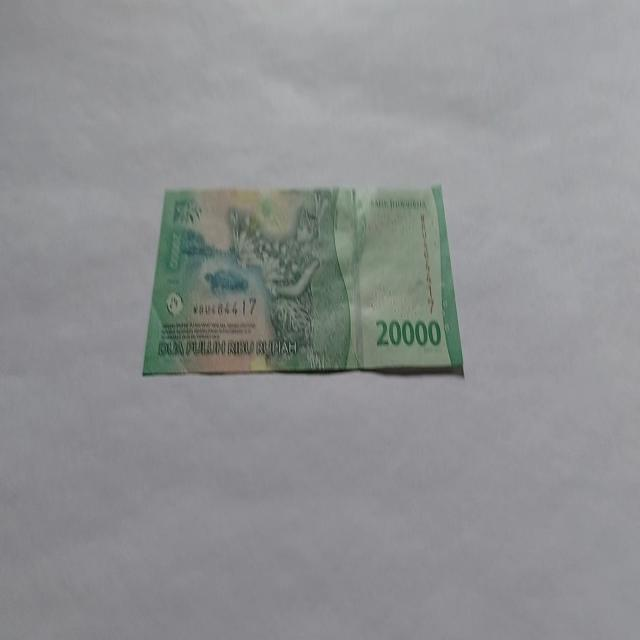dua puluh ribu rupiah: (141, 180, 465, 380)
